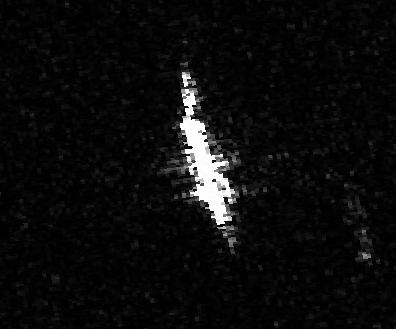ship: (167, 91, 242, 241)
